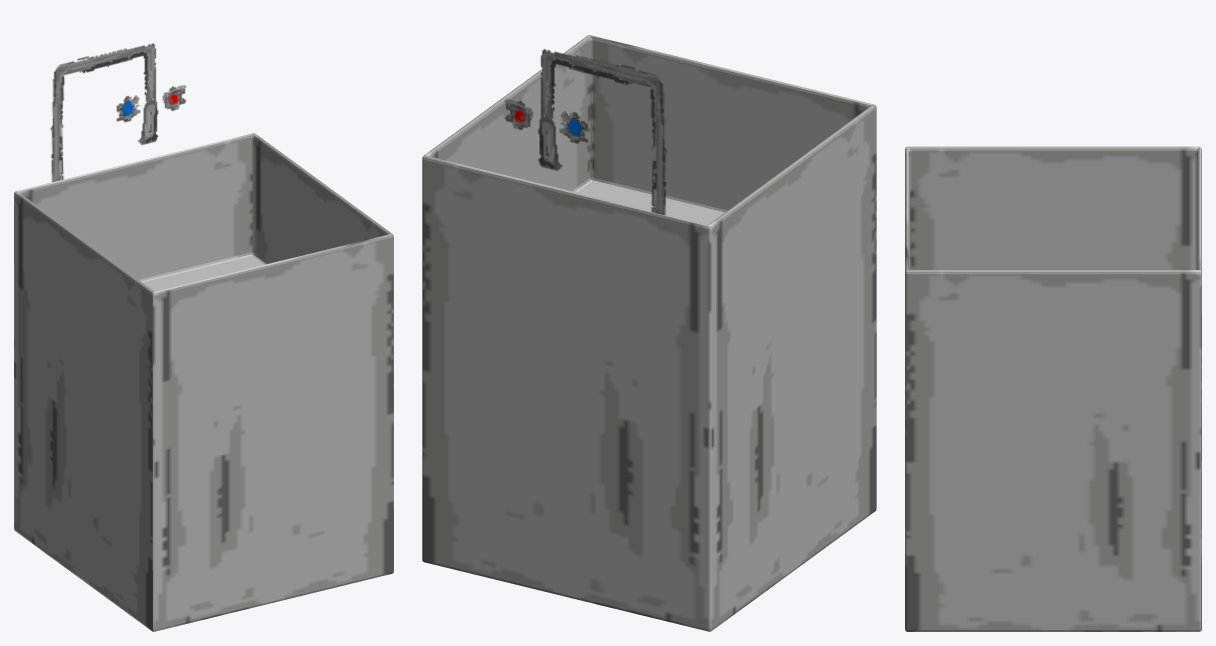
The model's file is sink_basin2.glb.
3 views of the same model, side by side, from view 1: azimuth 30°, elevation 25°; view 2: azimuth 150°, elevation 25°; view 3: azimuth 270°, elevation 25° (orthographic). The views are drawn at different scales.
Visible parts, largest first — view 1: Sink.002, Tap.001; view 2: Sink.002, Tap.001; view 3: Sink.002.
Part boxes in pixels (x1=…): Sink.002: x1=14, y1=133, x2=393, y2=631; Tap.001: x1=50, y1=43, x2=186, y2=182; Sink.002: x1=422, y1=35, x2=876, y2=631; Tap.001: x1=504, y1=49, x2=666, y2=215; Sink.002: x1=905, y1=146, x2=1201, y2=631.
Size of the model in its own units: 0.6118 by 1.14 by 0.6118.
Materials: 2 (2 with a texture image).
